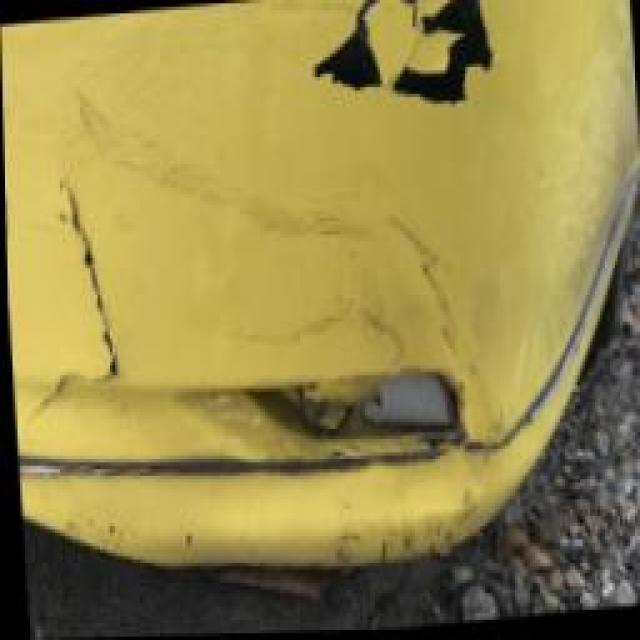Bumper: (2, 0, 563, 593)
